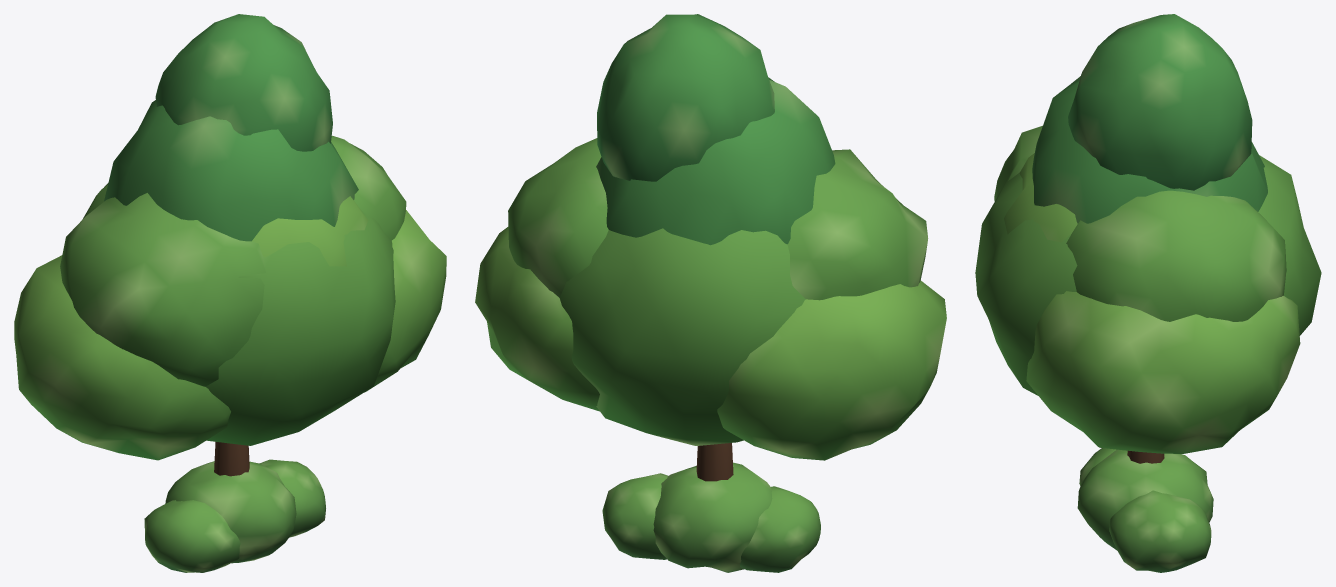
The model's file is arboles.glb.
The picture shows the model from 3 angles, left to right: view 1: azimuth 30°, elevation 25°; view 2: azimuth 150°, elevation 25°; view 3: azimuth 270°, elevation 25°; orthographic projection. The views are drawn at different scales.
Visible parts, largest first — view 1: Árbol redondo, Árbol alto, Árbol ancho, Arbusto; view 2: Árbol redondo, Árbol alto, Árbol ancho, Arbusto; view 3: Árbol redondo, Árbol ancho, Árbol alto, Arbusto.
Boxes of the visible parts, left/top/right/bottom form: Árbol redondo: left=60, top=135, right=406, bottom=445; Árbol alto: left=104, top=14, right=358, bottom=476; Árbol ancho: left=14, top=196, right=446, bottom=460; Arbusto: left=144, top=459, right=325, bottom=572; Árbol redondo: left=508, top=138, right=928, bottom=445; Árbol alto: left=596, top=14, right=835, bottom=481; Árbol ancho: left=475, top=226, right=946, bottom=460; Arbusto: left=602, top=462, right=820, bottom=572; Árbol redondo: left=975, top=125, right=1321, bottom=395; Árbol ancho: left=1004, top=153, right=1300, bottom=453; Árbol alto: left=1032, top=14, right=1267, bottom=463; Arbusto: left=1077, top=448, right=1213, bottom=572.
Size of the model in its own units: 6.42 by 7.89 by 4.65.
